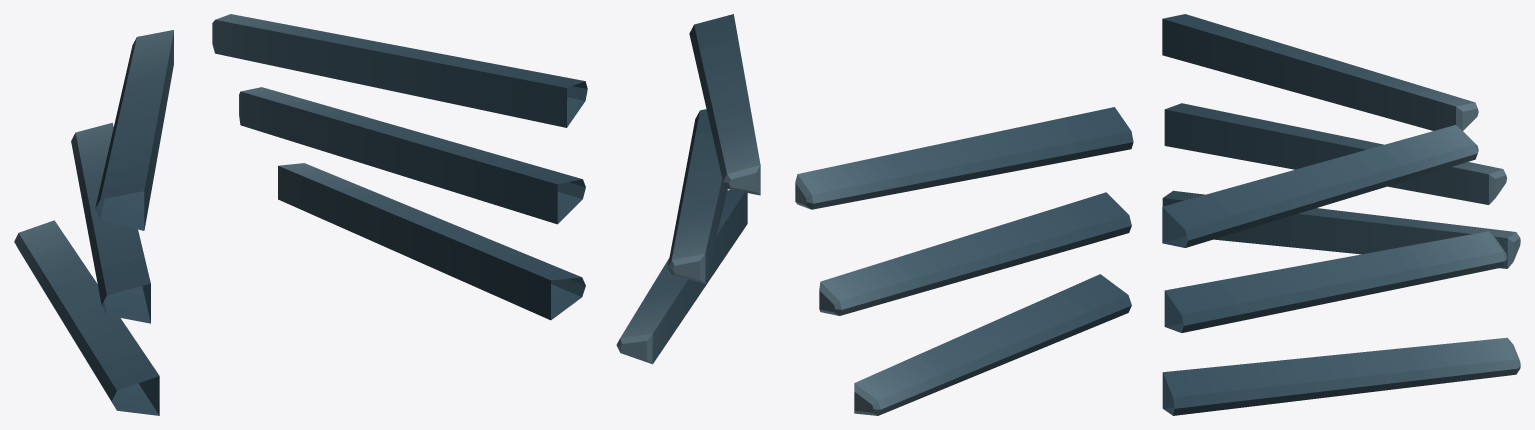
Rendered from Magical Gate 01.FBX.
3 views of the same model, side by side, from view 1: azimuth 30°, elevation 25°; view 2: azimuth 150°, elevation 25°; view 3: azimuth 270°, elevation 25° (orthographic). The views are drawn at different scales.
Parts seen in each view (by area): view 1: Magical Gate 01; view 2: Magical Gate 01; view 3: Magical Gate 01.
Boxes of the visible parts, bbox=[...] form: Magical Gate 01: bbox=[14, 14, 587, 415]; Magical Gate 01: bbox=[616, 14, 1133, 415]; Magical Gate 01: bbox=[1162, 14, 1520, 415].
Size of the model in its own units: 537 by 238 by 371.
Materials: 1 (1 with a texture image).
